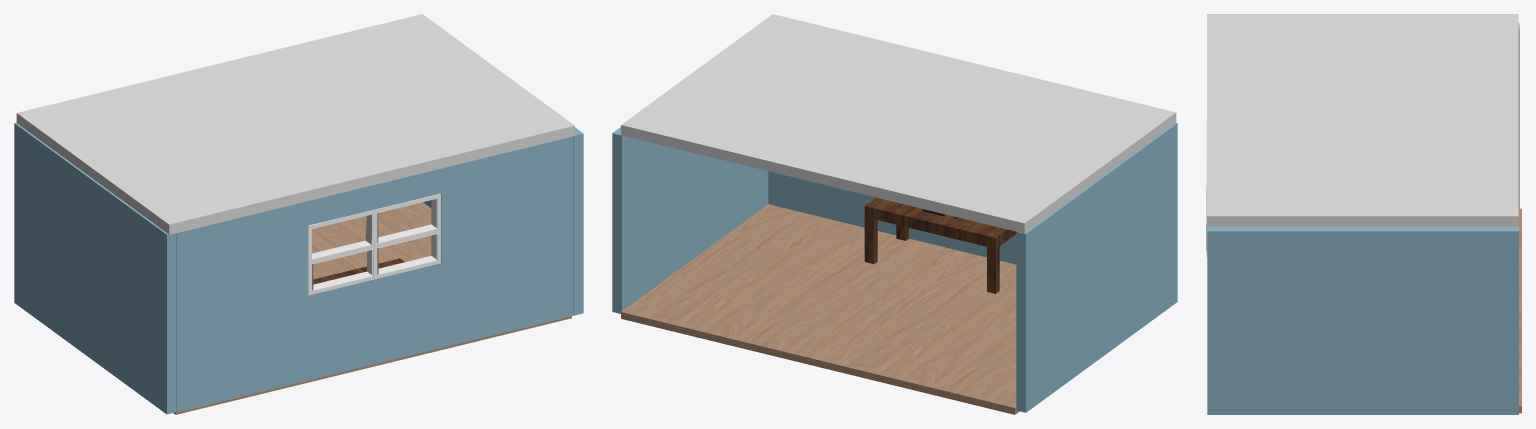
The model's file is Room.glb.
3 views of the same model, side by side, from view 1: azimuth 30°, elevation 25°; view 2: azimuth 150°, elevation 25°; view 3: azimuth 270°, elevation 25° (orthographic). The views are drawn at different scales.
Visible parts, largest first — view 1: Cube, BackWall, RightWall, BottomFloor, Window, LeftWall; view 2: Cube, BottomFloor, RightWall, LeftWall, BackWall, Desk; view 3: Cube, LeftWall, BottomFloor, RightWall.
Boxes of the visible parts, x1,y1,x2,y2 form: Cube: (16, 14, 574, 234); BackWall: (176, 136, 573, 412); RightWall: (14, 122, 176, 414); BottomFloor: (173, 202, 571, 414); Window: (308, 193, 440, 295); LeftWall: (423, 127, 583, 315); Cube: (621, 14, 1176, 233); BottomFloor: (621, 204, 1019, 414); RightWall: (1016, 123, 1177, 412); LeftWall: (612, 127, 768, 313); BackWall: (768, 171, 1016, 264); Desk: (864, 197, 1016, 293); Cube: (1207, 14, 1518, 226); LeftWall: (1207, 226, 1518, 414); BottomFloor: (1518, 208, 1521, 413); RightWall: (1518, 23, 1519, 208).
Size of the model in its own units: 6.31 by 2.8 by 4.05.
Materials: 10 (4 with a texture image).
